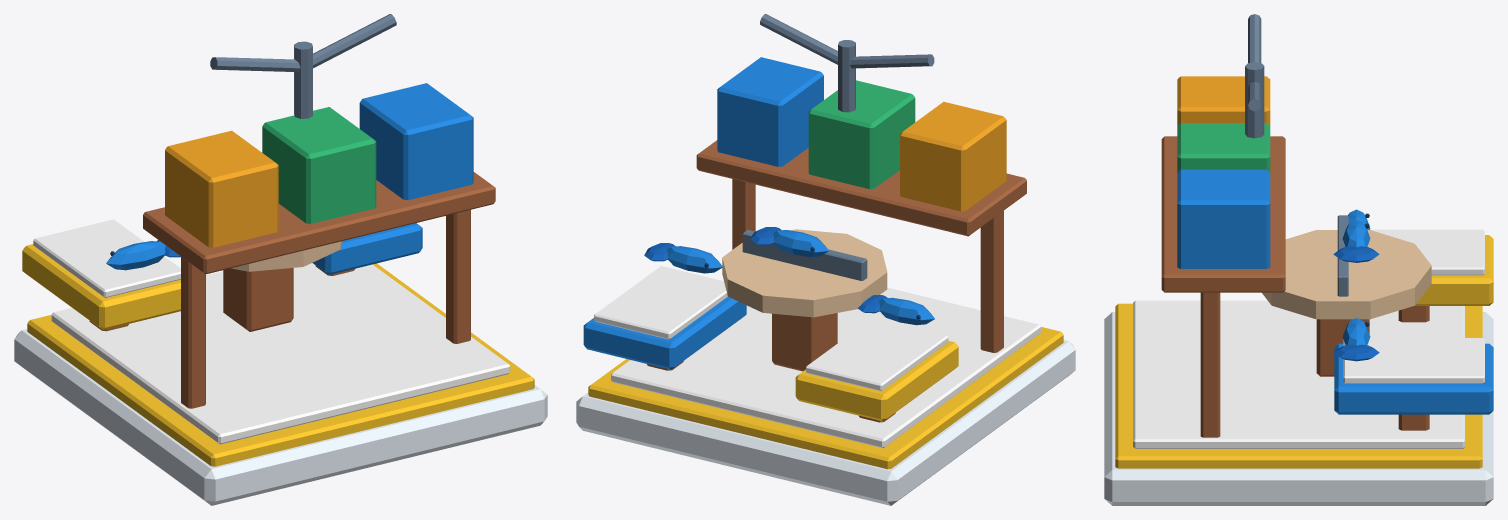
File: Building_Sorter_1x1_v002.fbx
3 renders of one model, left to right at view 1: azimuth 30°, elevation 25°; view 2: azimuth 150°, elevation 25°; view 3: azimuth 270°, elevation 25°, orthographic. The views are drawn at different scales.
Parts seen in each view (by area): view 1: FixedShell, OutputItemMesh; view 2: FixedShell, WorkingPartMesh, InputItemMesh, ProcessFinishedMesh, OutputItemMesh; view 3: FixedShell, ProcessFinishedMesh, InputItemMesh, WorkingPartMesh.
Boxes of the visible parts, x1,y1,x2,y2 form: FixedShell: (14, 14, 547, 505); OutputItemMesh: (106, 240, 180, 270); FixedShell: (576, 14, 1075, 505); WorkingPartMesh: (742, 230, 867, 280); InputItemMesh: (644, 243, 722, 273); ProcessFinishedMesh: (750, 227, 828, 257); OutputItemMesh: (857, 295, 934, 325); FixedShell: (1104, 14, 1493, 505); ProcessFinishedMesh: (1333, 219, 1379, 262); InputItemMesh: (1333, 318, 1379, 361); WorkingPartMesh: (1337, 215, 1348, 296).
Size of the model in its own units: 88 by 92.45 by 88.
